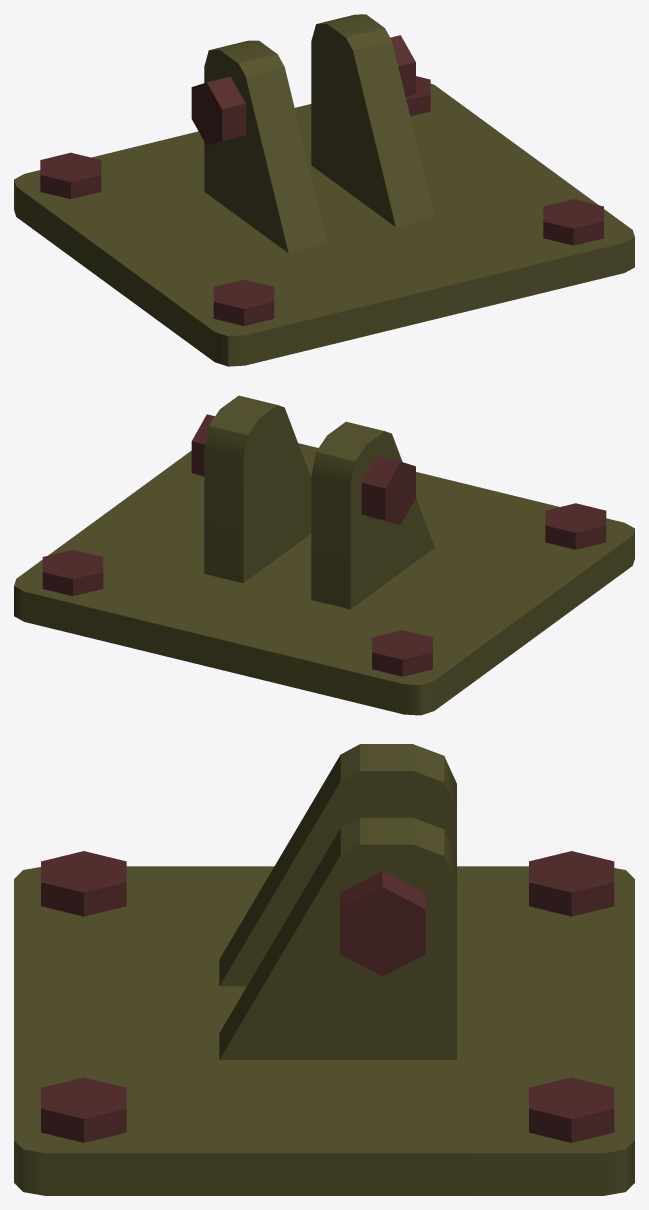
Rendered from staticMesh_module_Laser_Base.fbx.
3 renders of one model, top to bottom at view 1: azimuth 30°, elevation 25°; view 2: azimuth 150°, elevation 25°; view 3: azimuth 270°, elevation 25°, orthographic. The views are drawn at different scales.
Parts seen in each view (by area): view 1: polySurface10; view 2: polySurface10; view 3: polySurface10.
Boxes of the visible parts, bbox=[...] form: polySurface10: bbox=[14, 14, 634, 366]; polySurface10: bbox=[14, 395, 634, 715]; polySurface10: bbox=[14, 744, 634, 1195].
Bounding box in the file's own units: 38.22 × 16.02 × 34.94.
